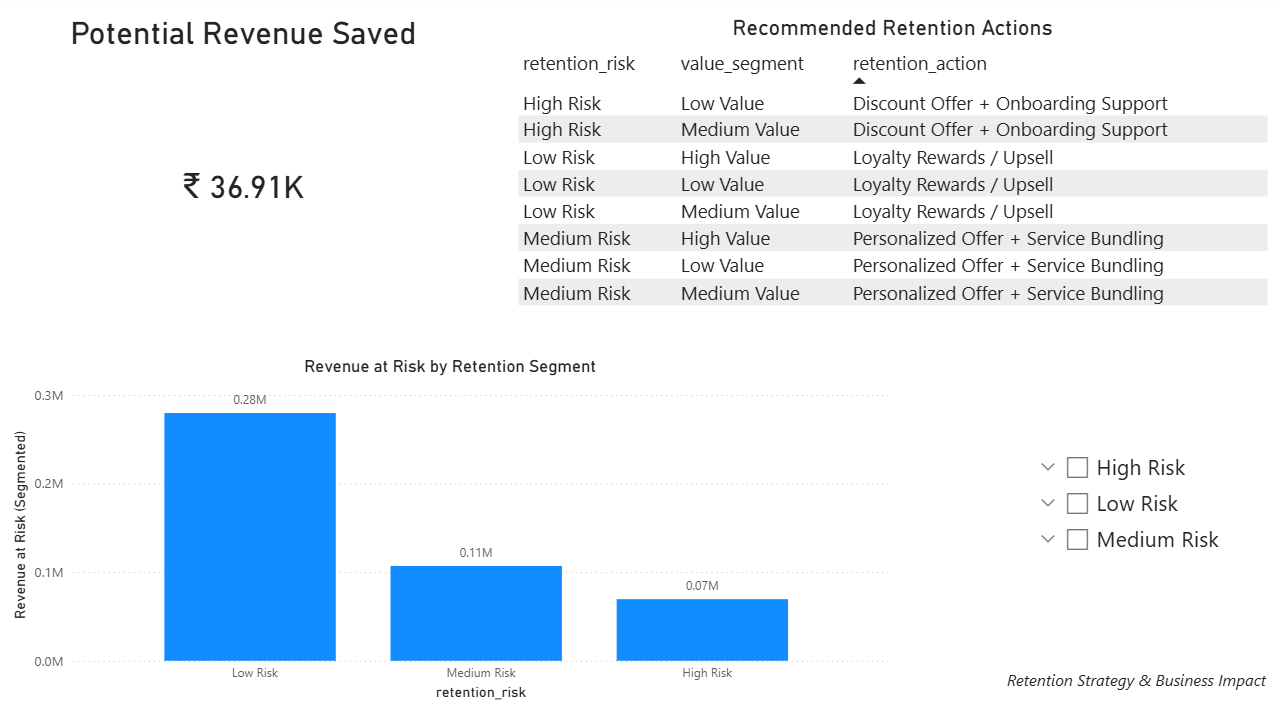

The dashboard page shown, as its layout file describes it:
{"tool":"powerbi","page":{"name":"Retention Strategy & Impact","canvas":[1280,720],"ordinal":3},"visuals":[{"type":"tableEx","title":"Recommended Retention Actions","fields":{"Values":["churn_cleaned.retention_risk","churn_cleaned.value_segment","churn_cleaned.retention_action"]},"box":[512.5,19.9,757.6,302.3],"z":0},{"type":"clusteredColumnChart","title":"Revenue at Risk by Retention Segment","fields":{"Category":["churn_cleaned.retention_risk"],"Y":["churn_cleaned.Revenue at Risk (Segmented)"]},"box":[10,359.5,882,347.1],"z":1000},{"type":"card","title":"Potential Revenue Saved","fields":{"Values":["churn_cleaned.Potential Revenue Saved"]},"box":[10,19.9,470.2,302.3],"z":2000},{"type":"slicer","fields":{"Values":["churn_cleaned.retention_risk","churn_cleaned.value_segment"]},"box":[1022.5,446.6,247.5,191.6],"z":3000},{"type":"textbox","box":[1000.1,665.5,269.9,41.1],"z":3001}]}

Visuals, with their boxes in screenshot pixels (x1, y1, x2, y2), scaled from the page's 1280x720 canvas onto the 1280x702 screenshot:
"Recommended Retention Actions" tableEx: (512, 19, 1270, 314)
"Revenue at Risk by Retention Segment" clusteredColumnChart: (10, 351, 892, 689)
"Potential Revenue Saved" card: (10, 19, 480, 314)
slicer - churn_cleaned.retention_risk x churn_cleaned.value_segment: (1022, 435, 1270, 622)
textbox: (1000, 649, 1270, 689)
